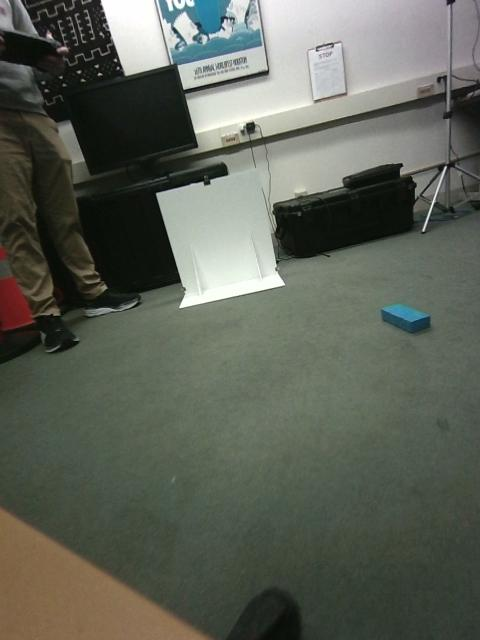block: (238, 383, 335, 457)
